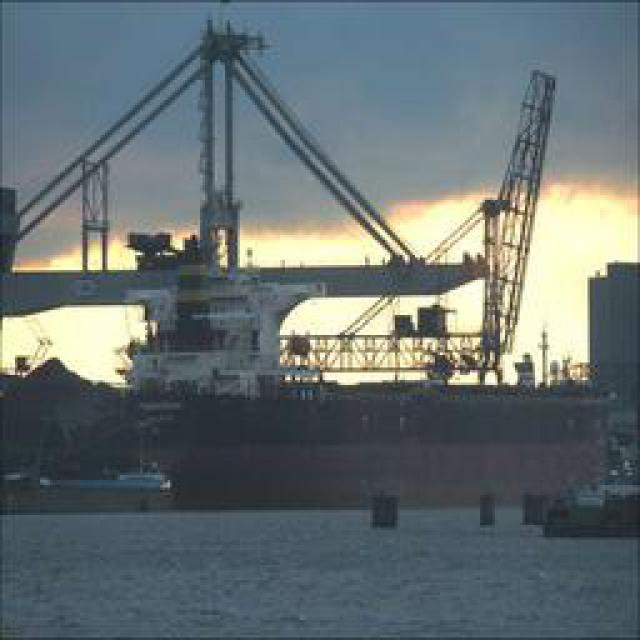Ship: (117, 204, 622, 506)
